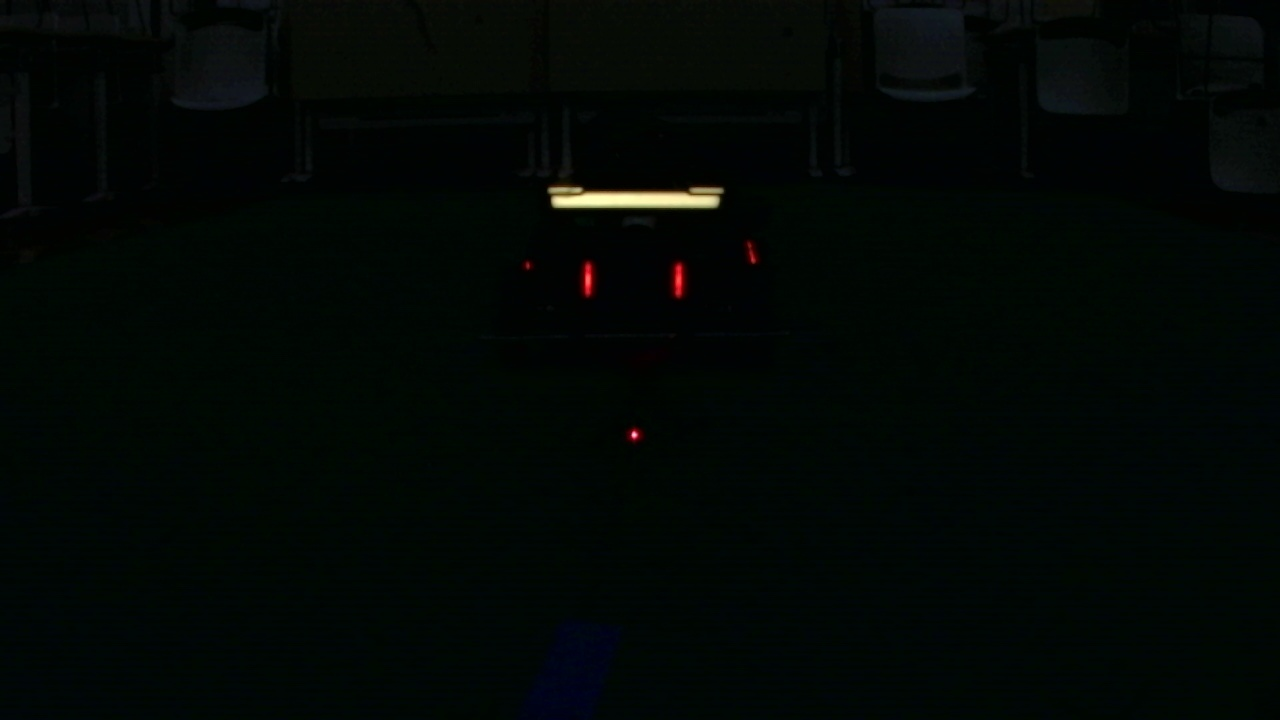lamp: (666, 256, 693, 308), (576, 256, 600, 305)
pair1: (570, 254, 692, 309)
